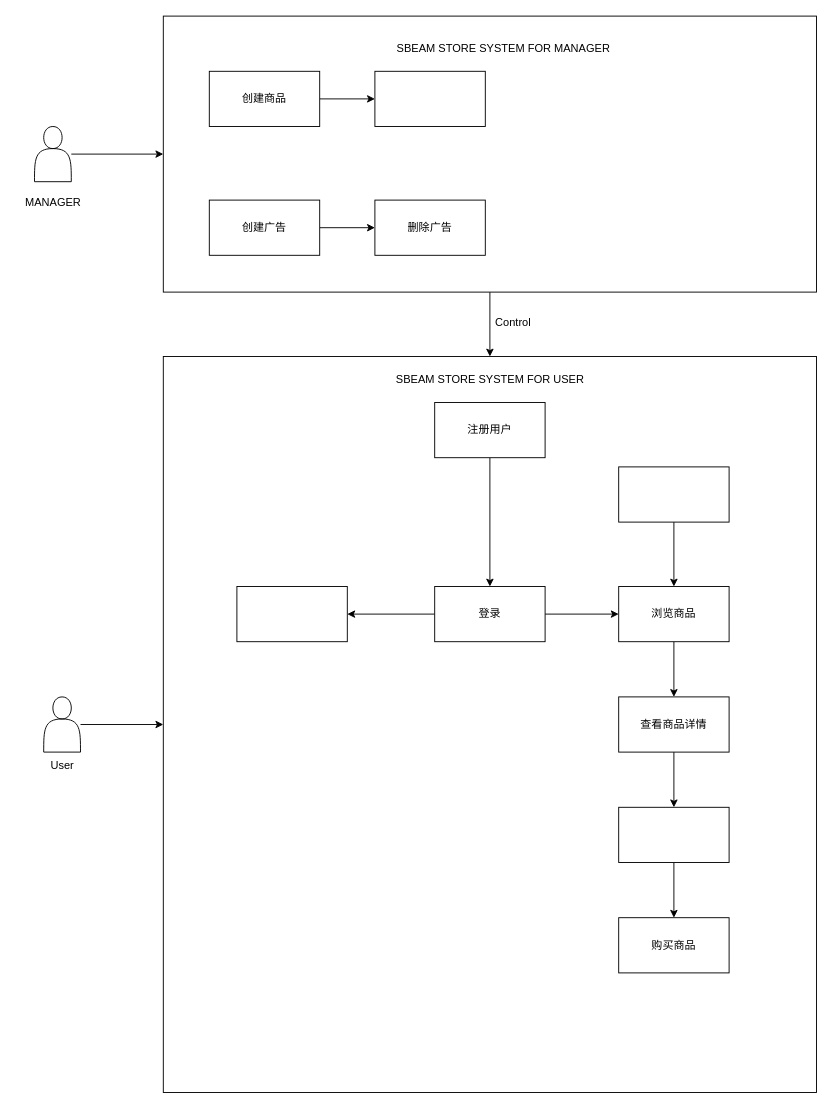
The diagram is 833 pixels wide and 1109 high, and some of its shapes have lost their labels. The shapes that lost their labels are listed below. From the top down, each one's box as (x1, y1, x2, y2) in pixels, then its label:
(374, 70, 485, 126): 更新商品库存
(618, 466, 729, 522): 搜索商品
(236, 586, 347, 642): 查看广告
(618, 806, 729, 862): 添加到购物车
